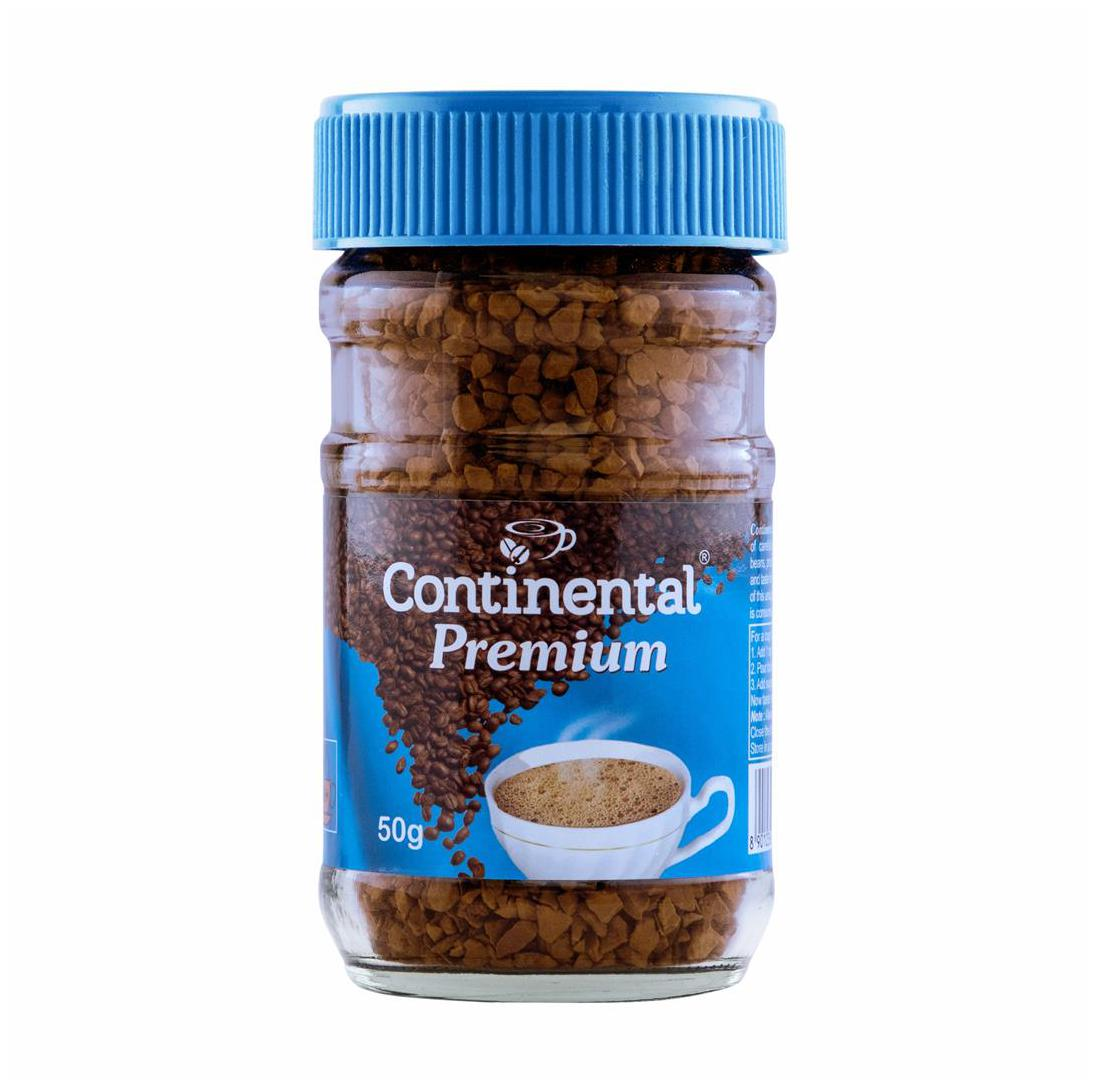JAR: (298, 80, 796, 1014)
